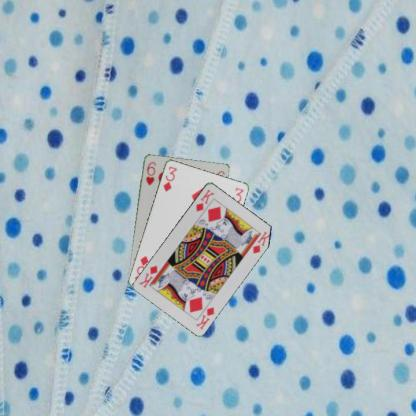3d: (161, 164, 178, 192)
6h: (143, 159, 157, 186)
Kd: (193, 304, 216, 330), (193, 186, 215, 212)
